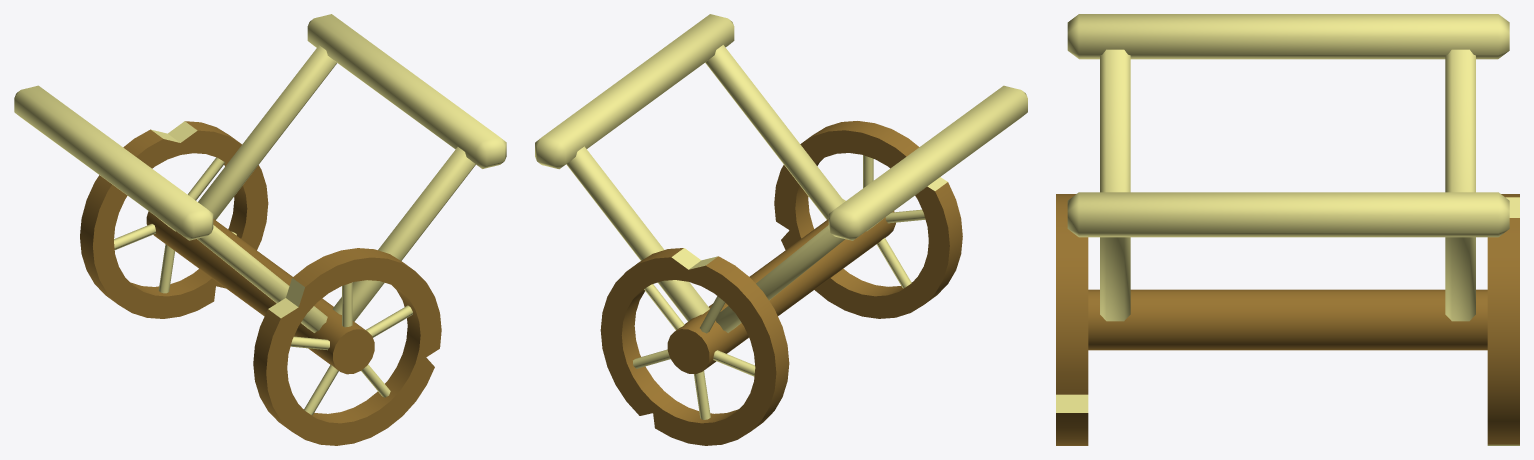
Rendered from wheels_wood_small.fbx.
3 renders of one model, left to right at view 1: azimuth 30°, elevation 25°; view 2: azimuth 150°, elevation 25°; view 3: azimuth 270°, elevation 25°, orthographic. The views are drawn at different scales.
Visible parts, largest first — view 1: wheels_wood_small; view 2: wheels_wood_small; view 3: wheels_wood_small.
Part boxes in pixels (x1,y1,x2,y2): wheels_wood_small: [14, 14, 506, 445]; wheels_wood_small: [535, 14, 1027, 445]; wheels_wood_small: [1056, 14, 1519, 445].
Size of the model in its own units: 199 by 154 by 199.
